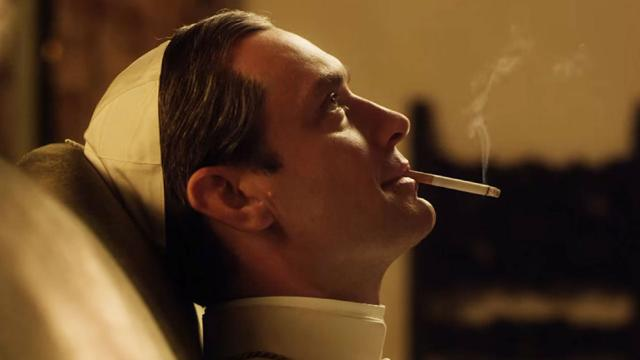Cigarette: (404, 167, 502, 203)
